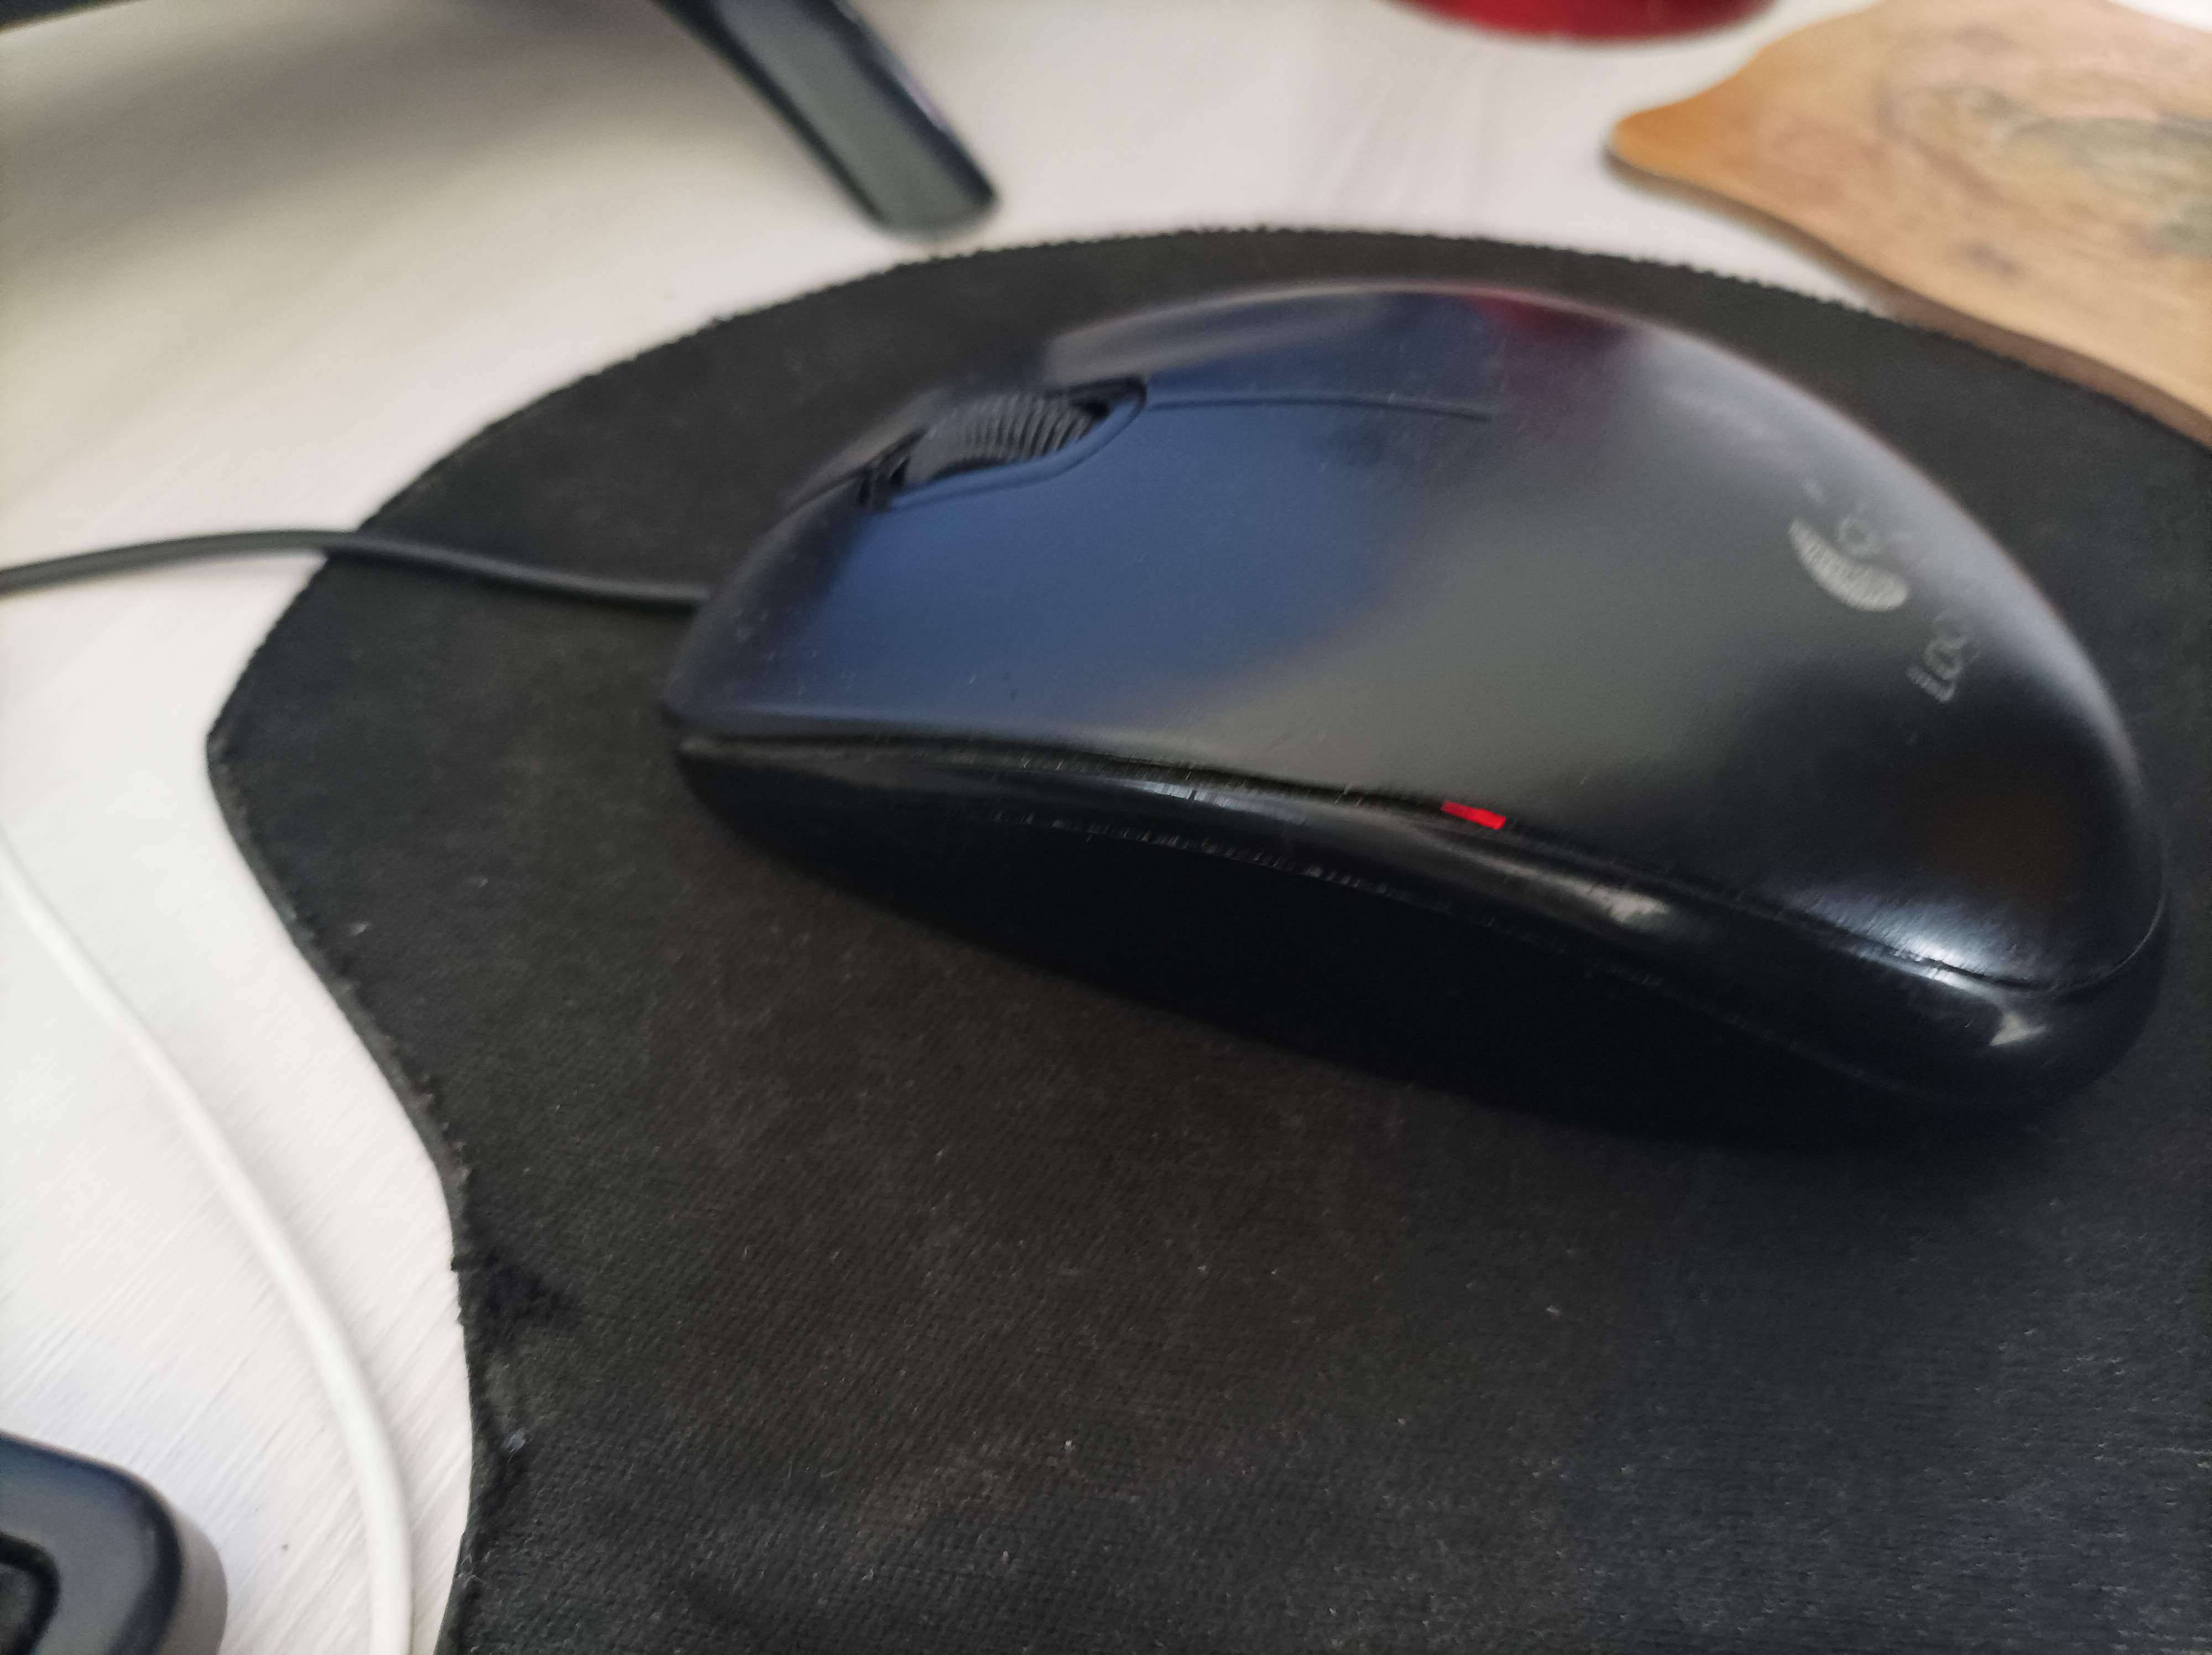mouse: (648, 252, 2186, 1168)
